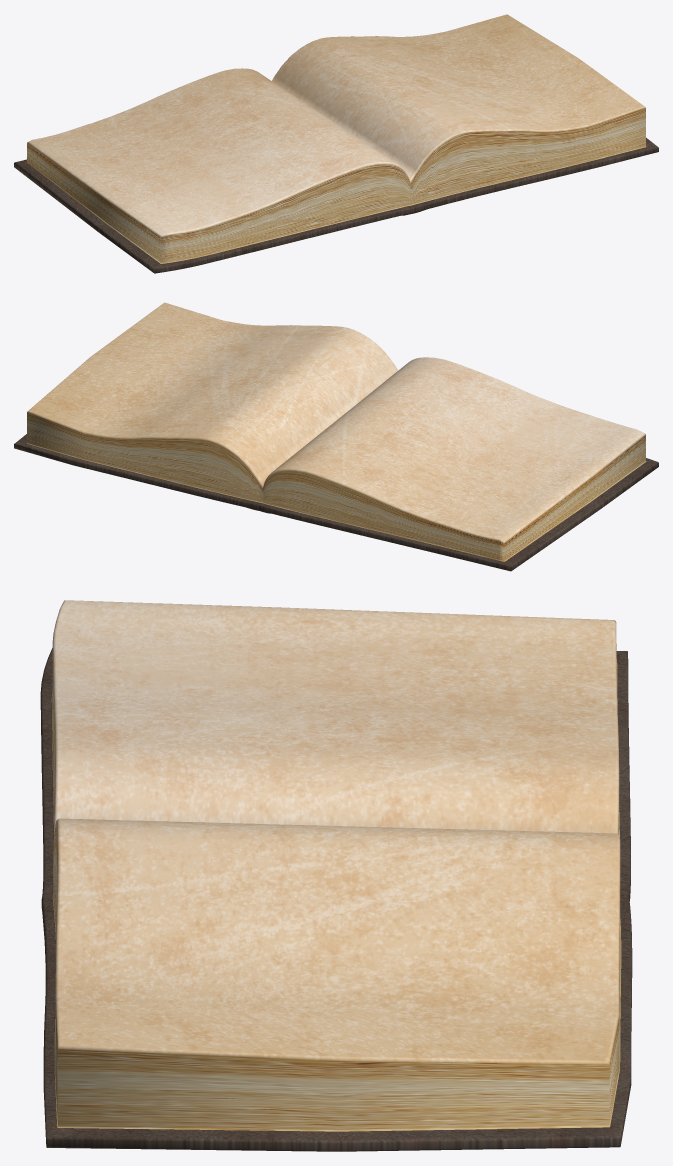
File: open_old_book.glb
3 renders of one model, top to bottom at view 1: azimuth 30°, elevation 25°; view 2: azimuth 150°, elevation 25°; view 3: azimuth 270°, elevation 25°, orthographic. The views are drawn at different scales.
Parts seen in each view (by area): view 1: OpenBook; view 2: OpenBook; view 3: OpenBook.
Part boxes in pixels (left/top/right/bottom): OpenBook: left=14, top=14, right=658, bottom=273; OpenBook: left=14, top=302, right=658, bottom=571; OpenBook: left=40, top=600, right=632, bottom=1151.
Size of the model in its own units: 0.9755 by 0.1216 by 0.4927.
Materials: 1 (1 with a texture image).
